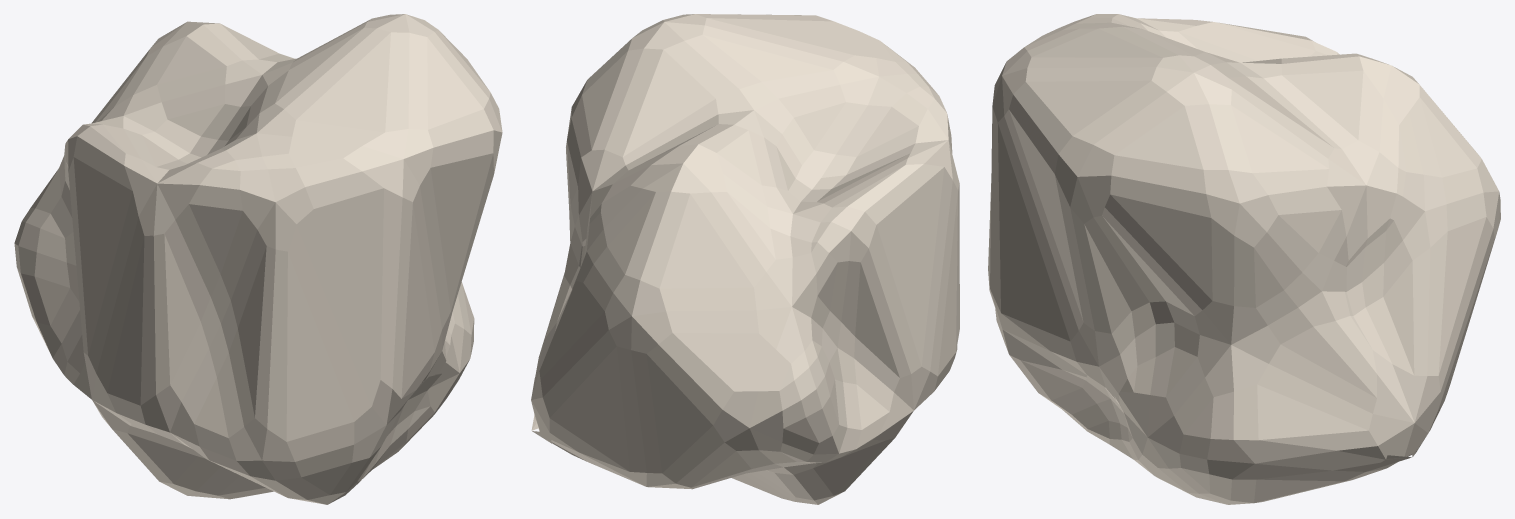
Rendered from sten1.glb.
3 views of the same model, side by side, from view 1: azimuth 30°, elevation 25°; view 2: azimuth 150°, elevation 25°; view 3: azimuth 270°, elevation 25° (orthographic). The views are drawn at different scales.
Visible parts, largest first — view 1: Cube; view 2: Cube; view 3: Cube.
Part boxes in pixels (x1=…): Cube: x1=14, y1=14, x2=502, y2=504; Cube: x1=531, y1=14, x2=959, y2=504; Cube: x1=988, y1=14, x2=1500, y2=504.
Bounding box in the file's own units: 0.6619 × 0.7612 × 0.7712.
